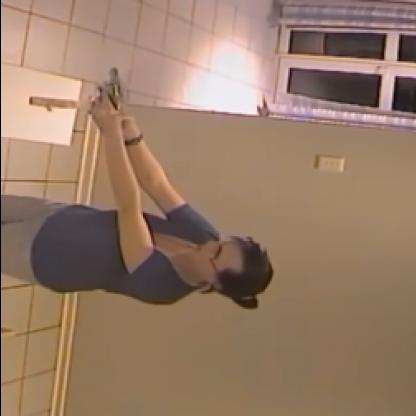Human Body: (2, 60, 280, 324)
